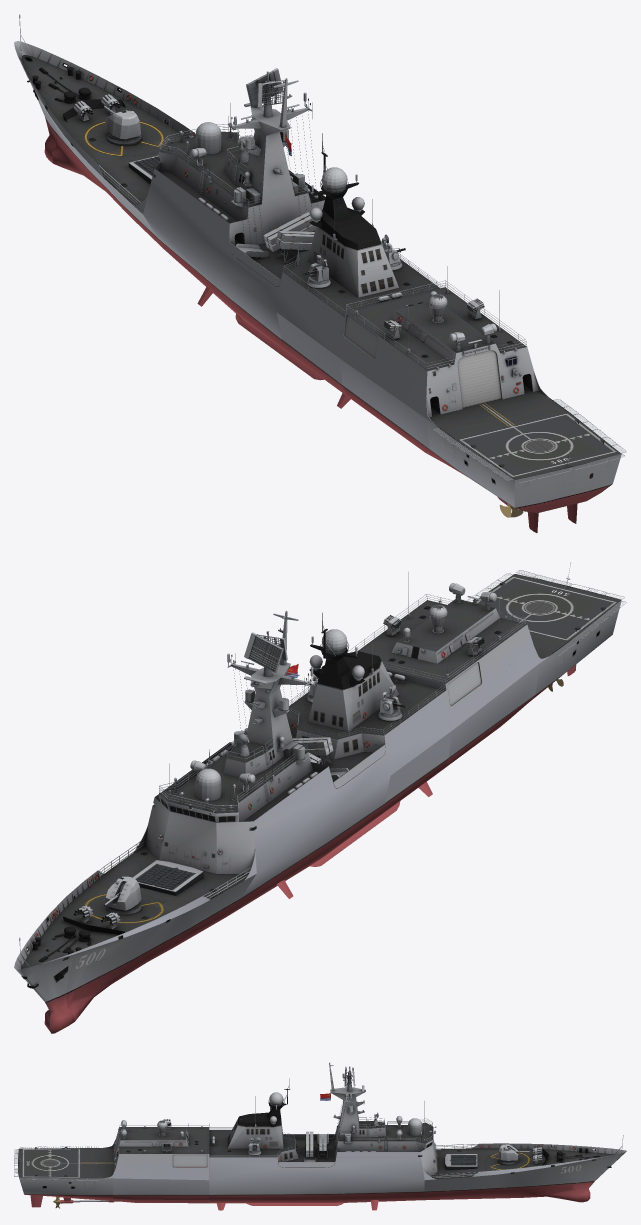
File: type_054a.glb
3 renders of one model, top to bottom at view 1: azimuth 30°, elevation 25°; view 2: azimuth 150°, elevation 25°; view 3: azimuth 270°, elevation 25°, orthographic. The views are drawn at different scales.
Visible parts, largest first — view 1: Object_3, Object_10, Object_5, Object_7, Object_6, Object_4, Object_12; view 2: Object_3, Object_10, Object_5, Object_7, Object_4, Object_6, Object_12; view 3: Object_3, Object_10, Object_5, Object_7, Object_6, Object_4, Object_12.
Boxes of the visible parts, x1,y1,x2,y2 form: Object_3: [143, 78, 444, 401]; Object_10: [338, 266, 621, 513]; Object_5: [14, 14, 195, 248]; Object_7: [195, 68, 405, 281]; Object_6: [197, 286, 577, 532]; Object_4: [104, 106, 160, 174]; Object_12: [433, 399, 626, 482]; Object_3: [143, 610, 452, 916]; Object_10: [348, 572, 621, 770]; Object_5: [14, 824, 256, 1033]; Object_7: [195, 629, 406, 800]; Object_4: [104, 865, 192, 914]; Object_6: [277, 664, 576, 898]; Object_12: [466, 570, 626, 655]; Object_3: [209, 1062, 437, 1203]; Object_10: [18, 1119, 209, 1203]; Object_5: [422, 1135, 626, 1202]; Object_7: [252, 1066, 422, 1157]; Object_6: [30, 1195, 378, 1210]; Object_4: [452, 1144, 529, 1164]; Object_12: [14, 1146, 98, 1180].
Size of the model in its own units: 17.55 by 33.87 by 134.
6 materials, 6 textured.
